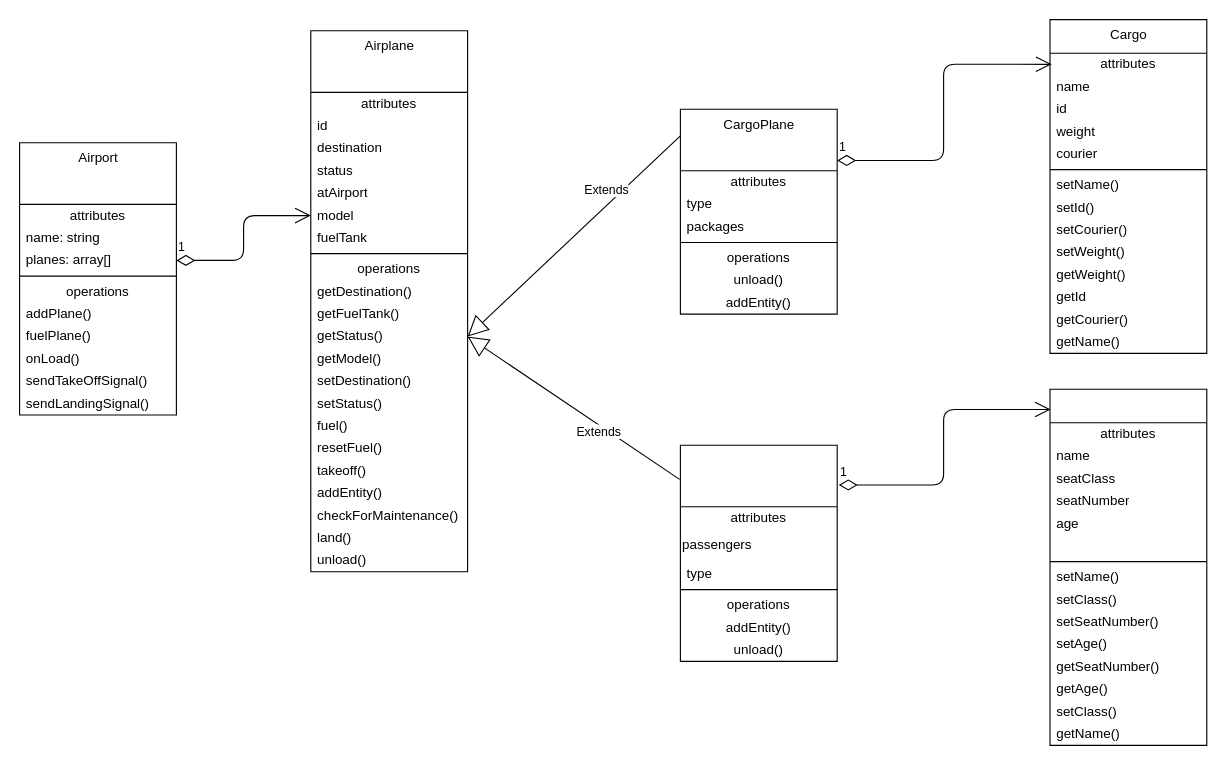
Image size: 1226x765. Some labels were removed from this diagram. The shapes that lost their labels are listed below. From the top down, each one's box as (x1, y1, x2, y2) in pixels, then its label:
(679, 444, 837, 661): PassengerPlane
(1049, 388, 1207, 745): Passenger
